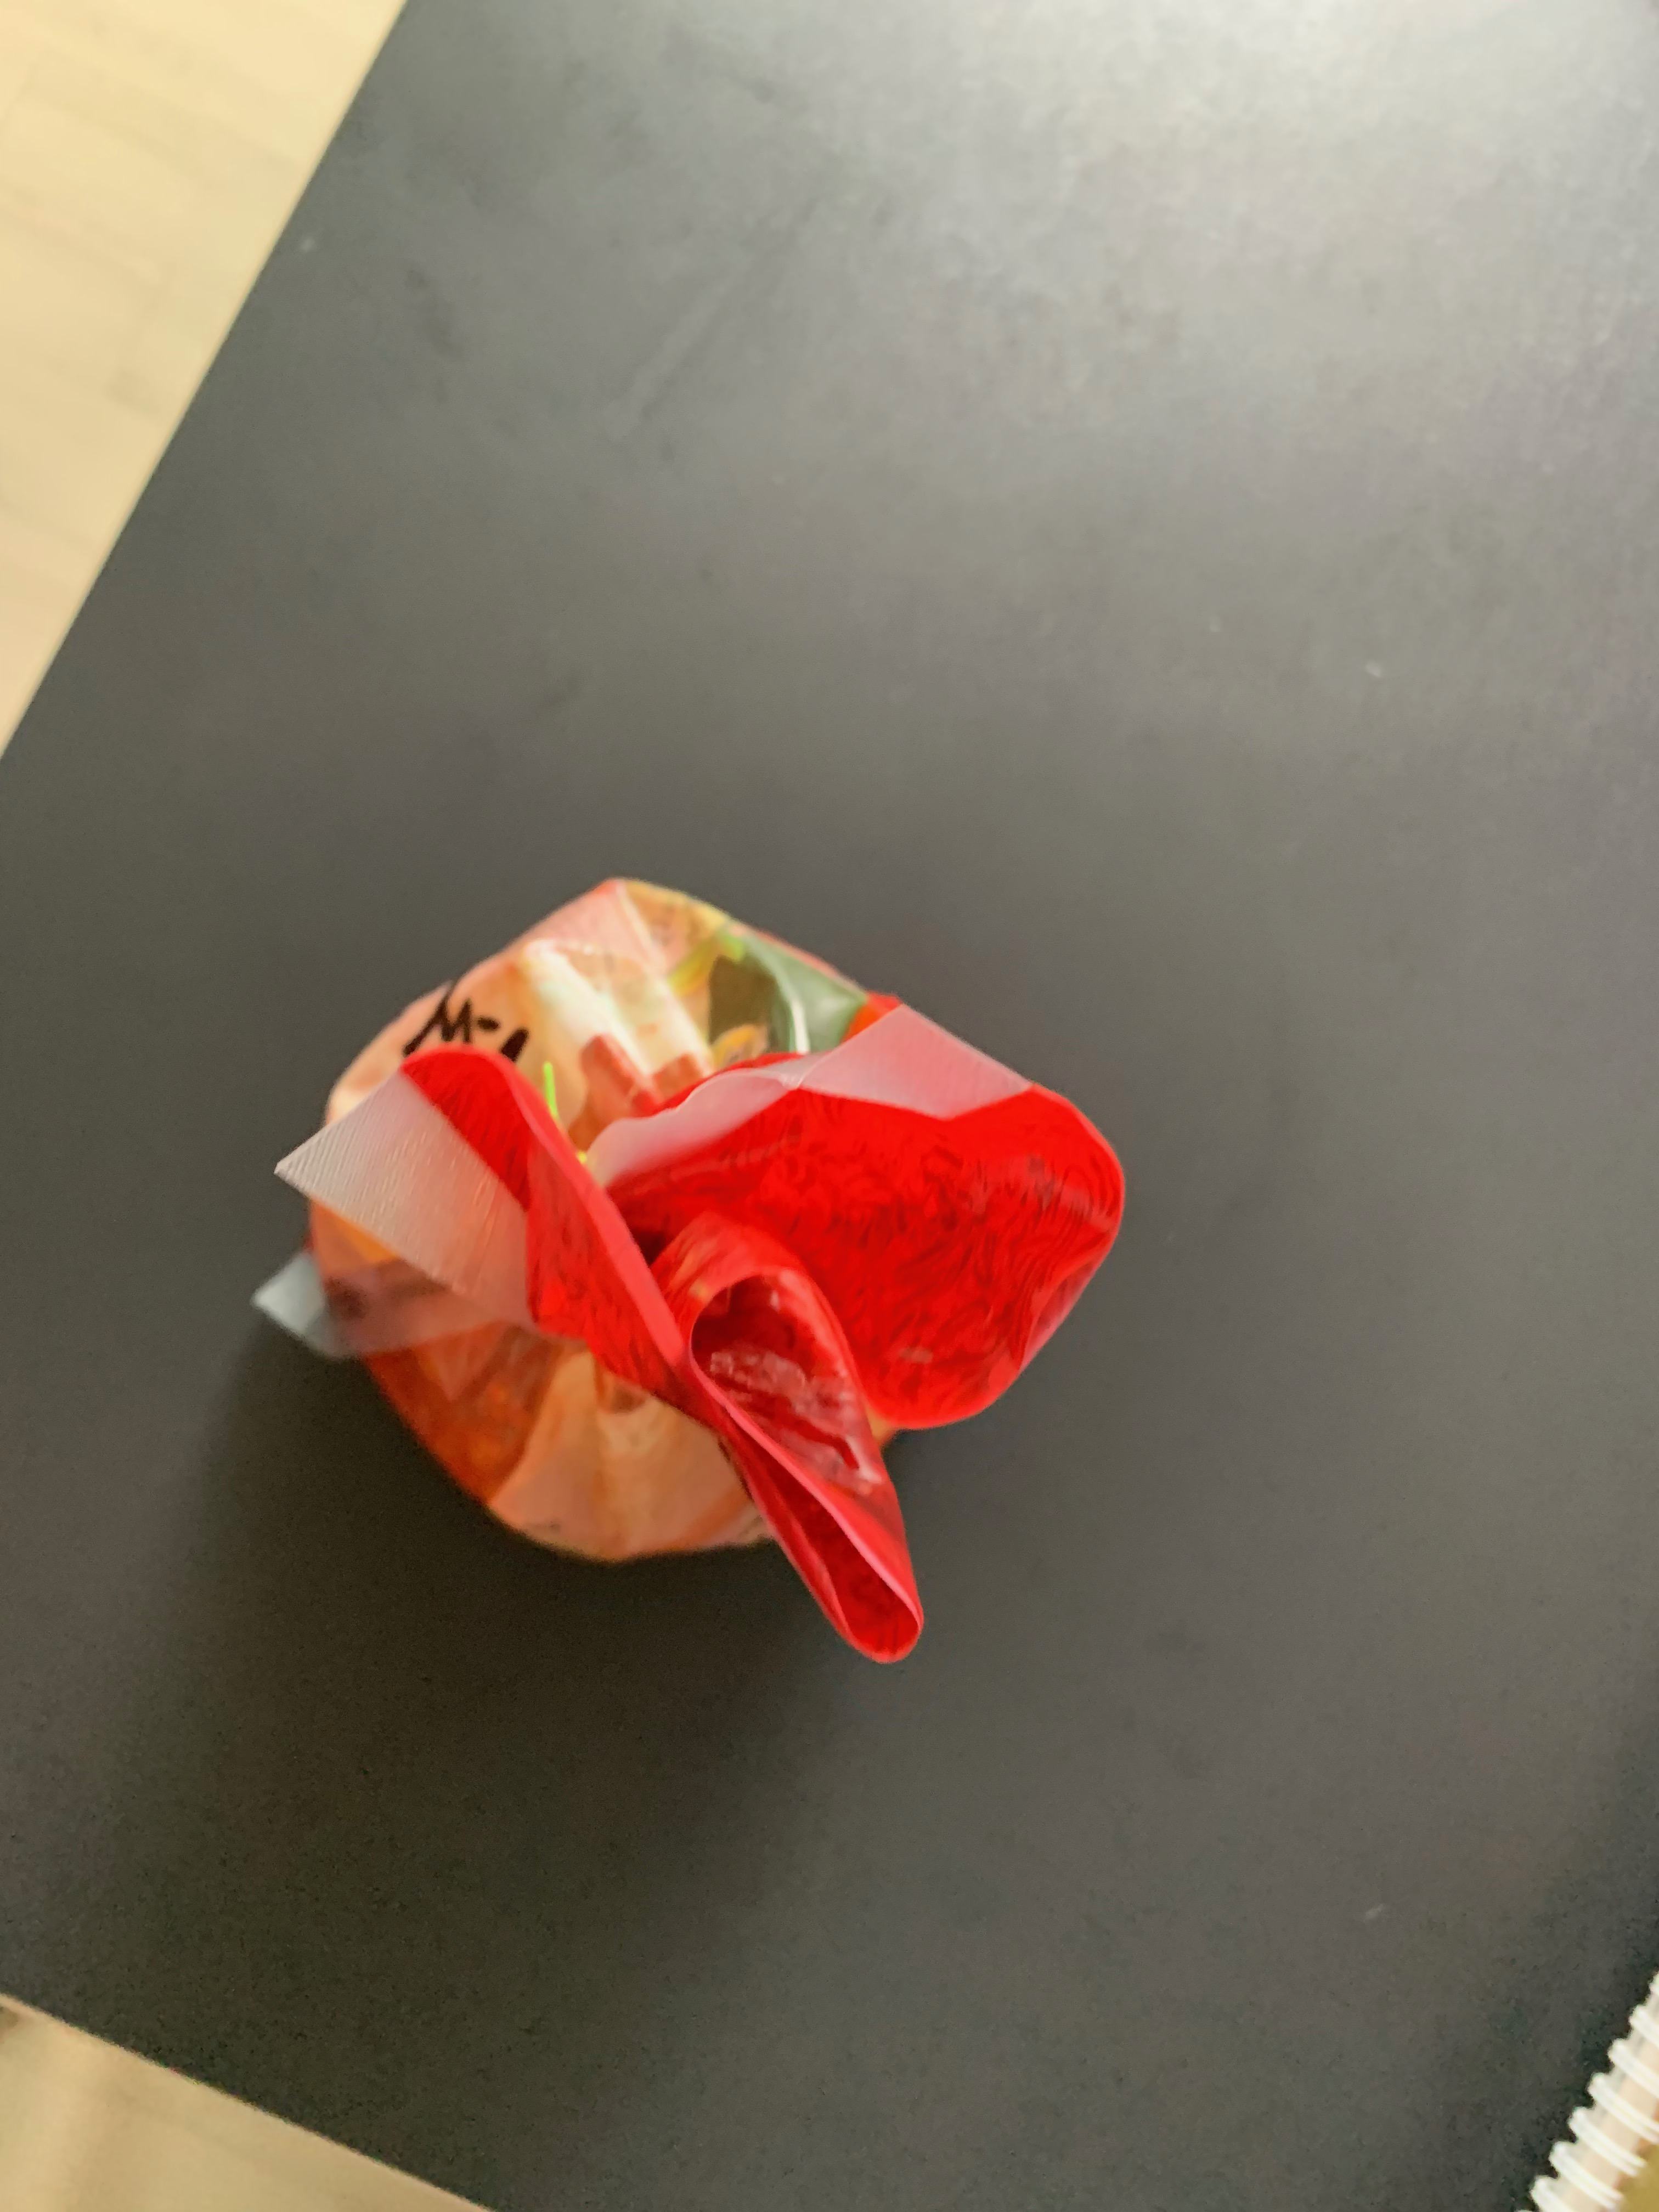kimchi: (308, 873, 1117, 1669)
